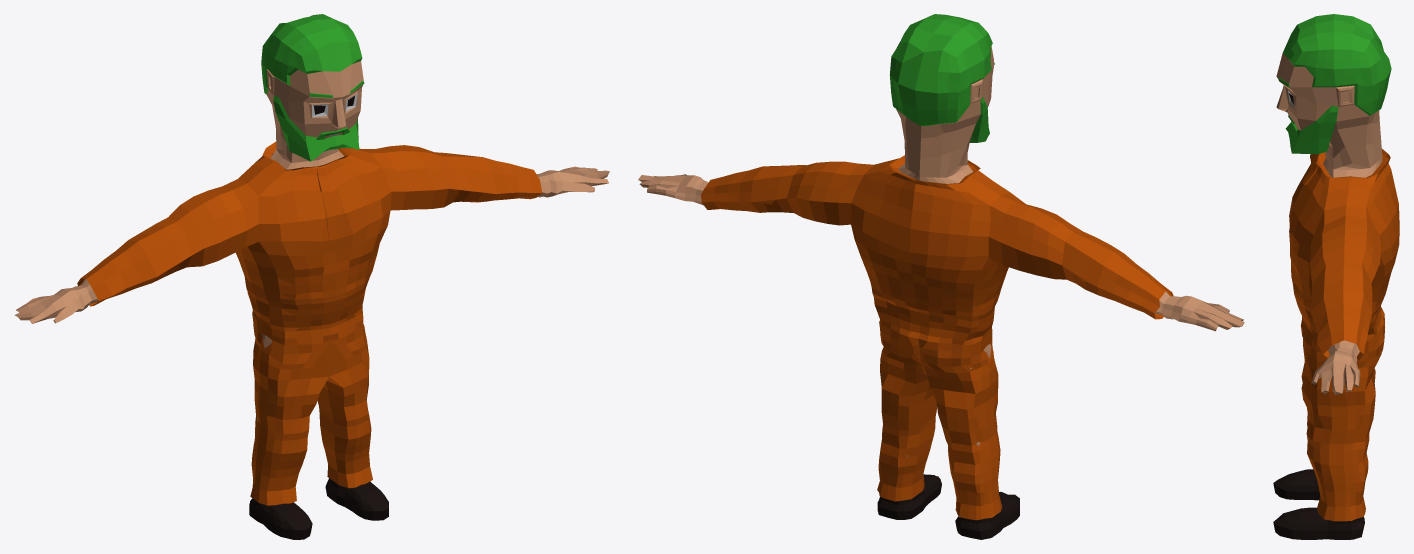
Rendered from Zatvorenik.fbx.
3 renders of one model, left to right at view 1: azimuth 30°, elevation 25°; view 2: azimuth 150°, elevation 25°; view 3: azimuth 270°, elevation 25°, orthographic.
Parts seen in each view (by area): view 1: ROBA.003, LIK1.003; view 2: ROBA.003, LIK1.003; view 3: ROBA.003, LIK1.003.
Boxes of the visible parts, x1,y1,x2,y2 form: ROBA.003: (77, 141, 542, 505); LIK1.003: (14, 14, 609, 539); ROBA.003: (701, 155, 1173, 520); LIK1.003: (638, 14, 1244, 539); ROBA.003: (1289, 148, 1399, 521); LIK1.003: (1273, 14, 1391, 539).
Size of the model in its own units: 1350 by 1064 by 247.
